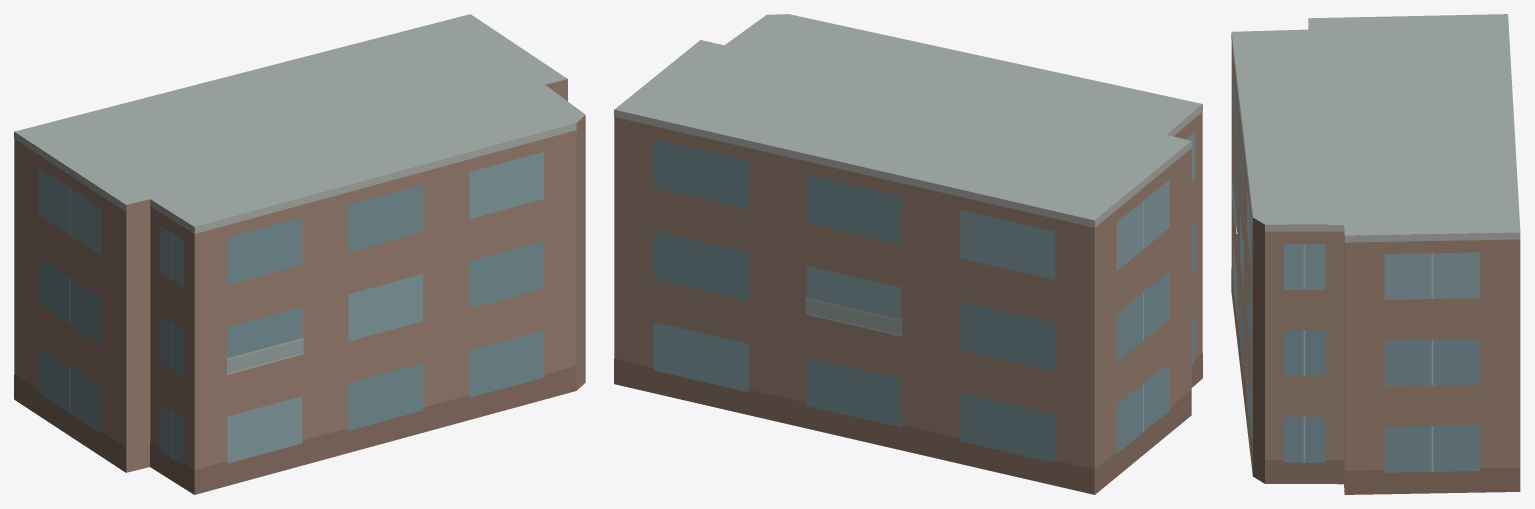
The model's file is survey-upis-32568067.glb.
3 renders of one model, left to right at view 1: azimuth 30°, elevation 25°; view 2: azimuth 150°, elevation 25°; view 3: azimuth 270°, elevation 25°, orthographic. The views are drawn at different scales.
Parts seen in each view (by area): view 1: survey-upis-32568067.tmp; view 2: survey-upis-32568067.tmp; view 3: survey-upis-32568067.tmp.
Boxes of the visible parts, x1,y1,x2,y2 form: survey-upis-32568067.tmp: (14, 14, 585, 494); survey-upis-32568067.tmp: (614, 14, 1202, 494); survey-upis-32568067.tmp: (1231, 14, 1520, 494).
Size of the model in its own units: 16.79 by 9.15 by 9.26.
